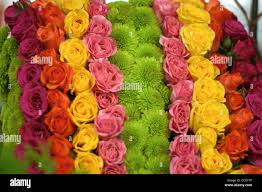lale: (11, 86, 49, 120), (90, 58, 125, 92), (180, 18, 216, 50), (41, 61, 72, 97), (95, 107, 132, 137), (69, 91, 102, 122), (60, 11, 94, 41), (190, 79, 227, 106), (58, 36, 90, 67), (169, 96, 193, 137), (101, 133, 127, 169), (45, 107, 76, 136), (13, 57, 43, 86), (164, 51, 192, 82), (186, 56, 221, 79), (74, 125, 102, 152), (170, 135, 200, 160), (168, 155, 200, 177), (161, 36, 188, 56)
